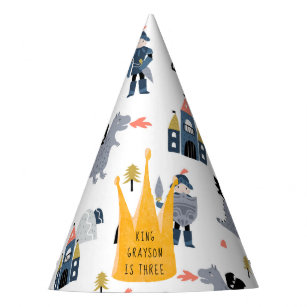cone: (49, 14, 259, 293)
